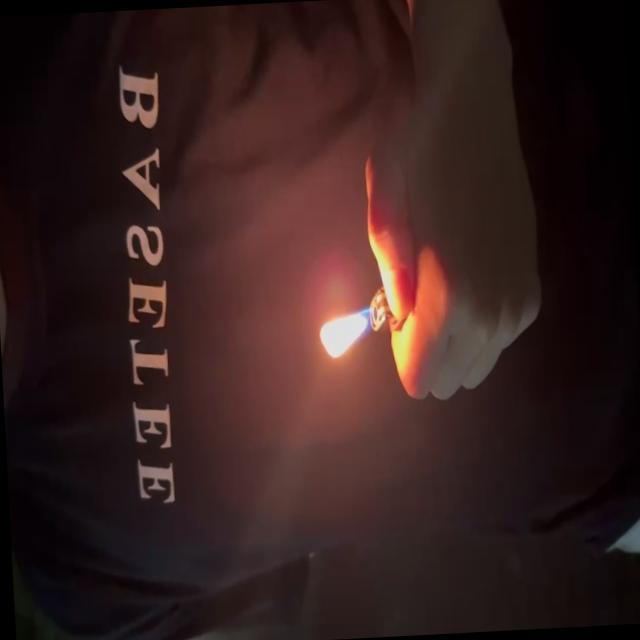Fire: (318, 307, 380, 362)
